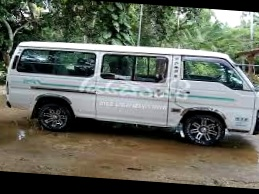van: (0, 34, 259, 152)
